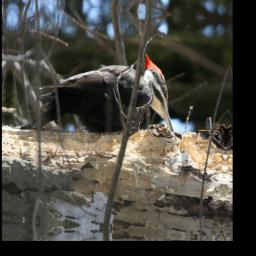Woodpecker: (15, 40, 178, 144)
